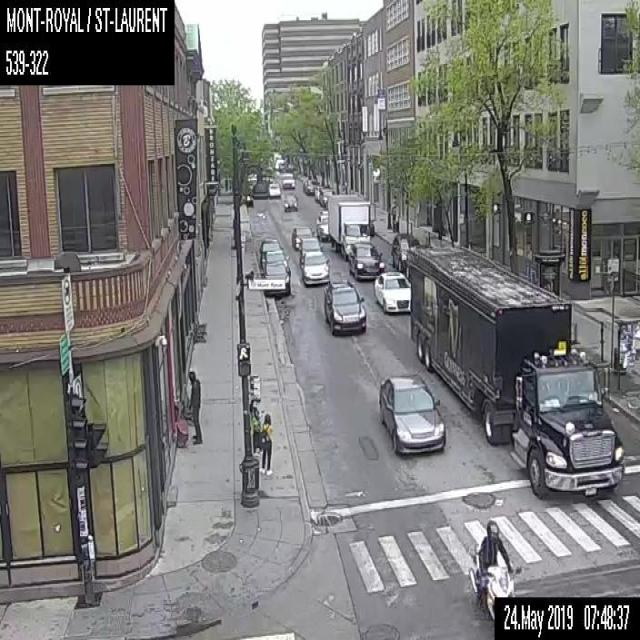pedestrian: (185, 368, 203, 444), (258, 413, 272, 474), (249, 399, 261, 454), (391, 192, 396, 219)
vehicle: (407, 244, 622, 497), (378, 370, 447, 454), (469, 519, 524, 621), (326, 193, 374, 259), (322, 280, 366, 334), (374, 270, 411, 313), (348, 240, 384, 278), (390, 232, 419, 272), (302, 249, 329, 283), (262, 264, 290, 294), (259, 236, 283, 266), (262, 249, 290, 274), (299, 237, 323, 266), (292, 225, 314, 249), (315, 214, 330, 240), (319, 188, 335, 206), (282, 192, 298, 210), (302, 178, 319, 193), (282, 172, 294, 188), (268, 182, 280, 198), (314, 185, 326, 201), (274, 158, 283, 169), (245, 194, 253, 206), (278, 161, 286, 170), (319, 208, 327, 214)
